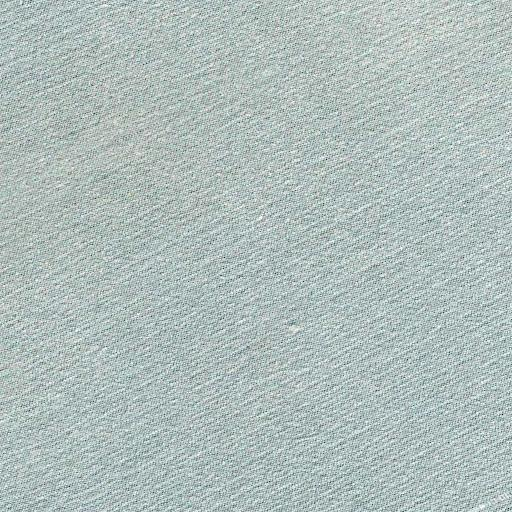knot: (278, 314, 316, 345)
